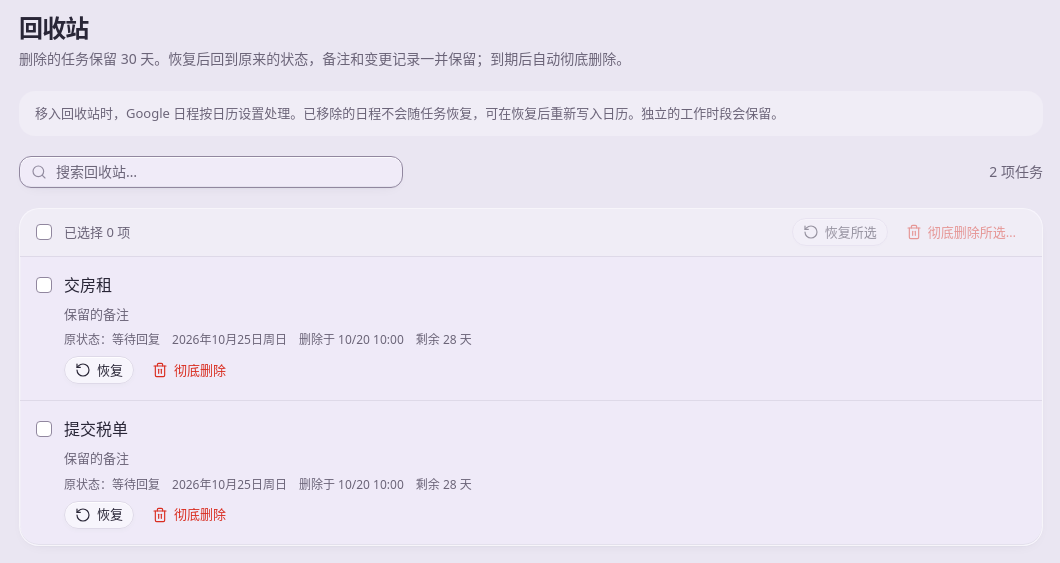
Test: Task recycle bin › searches independently from the active task list and clears old selections
The width and height of the screenshot is (1060, 563).
Click the checkbox named "选择「交房租」" at (44, 285), box [36, 277, 52, 293]
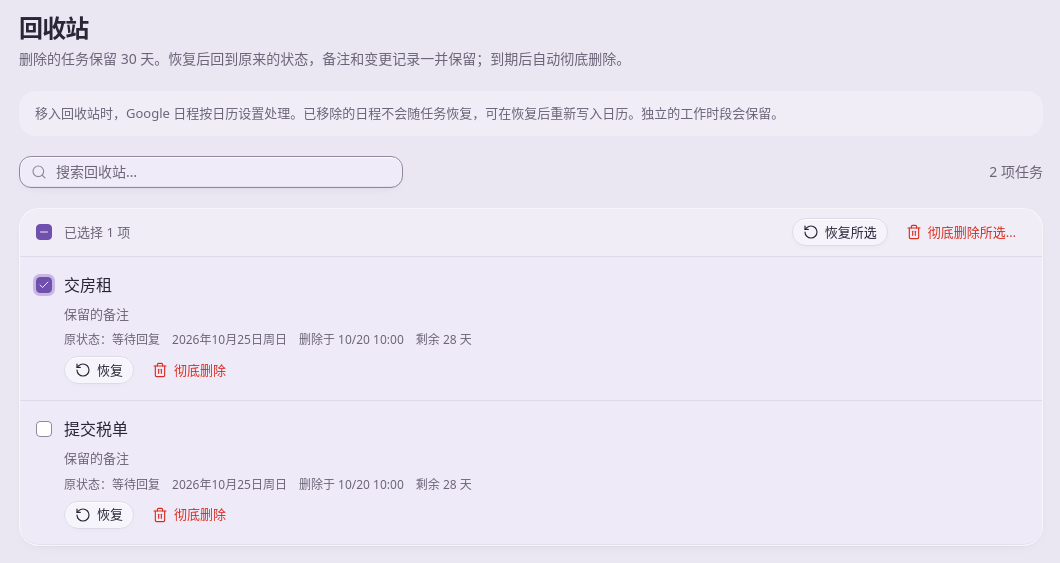
Type "提交" into the field labelled "搜索回收站…" at (211, 172), box [19, 156, 403, 188]
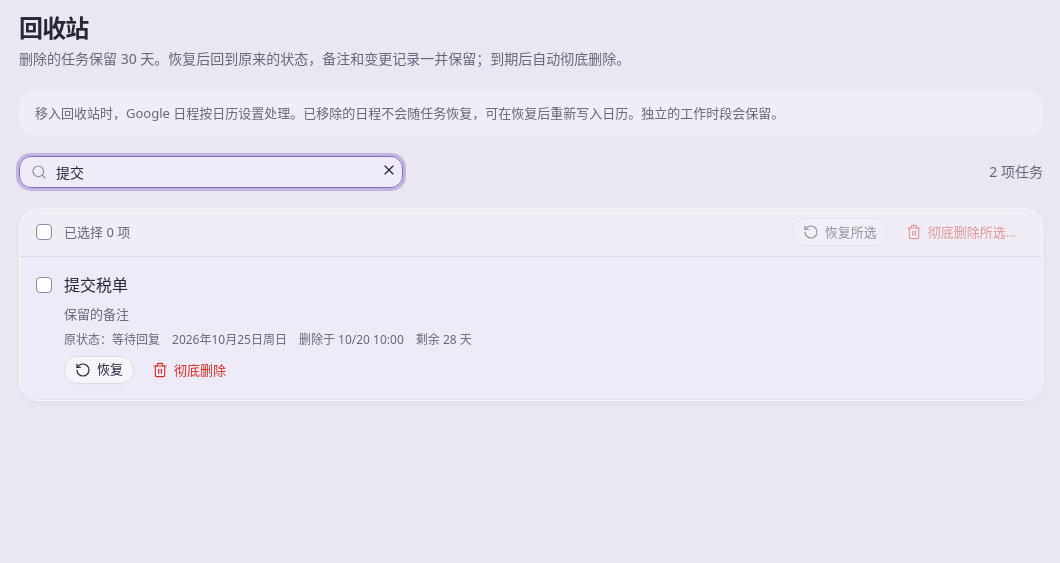
Expected: the text "提交税单" is shown, [64, 274, 128, 296]
Expected: the button "恢复所选" is disabled, [792, 218, 888, 246]
